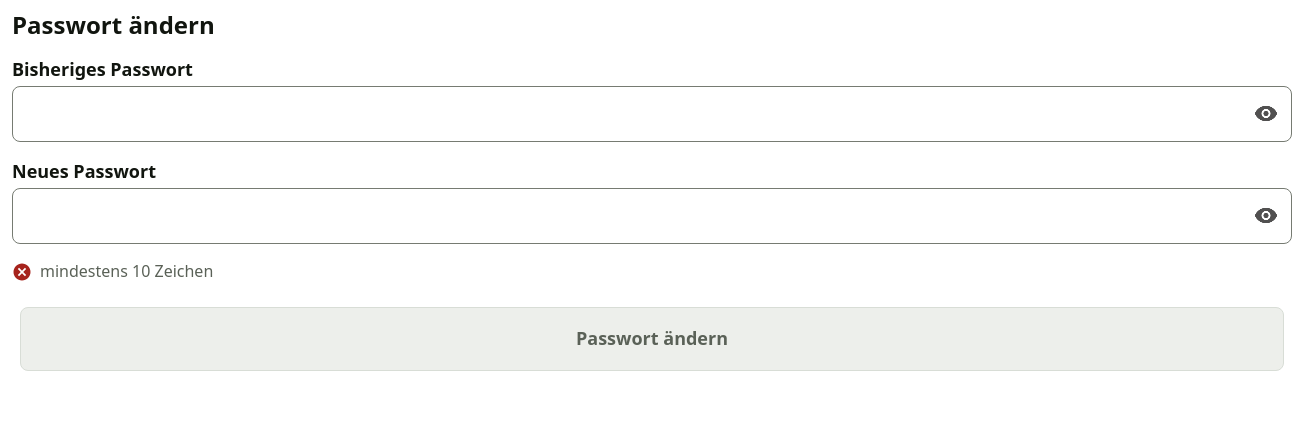
Test: PasswortAendern › Fehler › 429 PIN_GESPERRT: Text des Servers, Schaltfläche bleibt gesperrt
This screenshot has width=1304, height=446.
Step 1. Type "beispiel-passwort-01" into the password field with test id "passwort-aendern-alt" → (652, 114), box [12,86,1292,142]
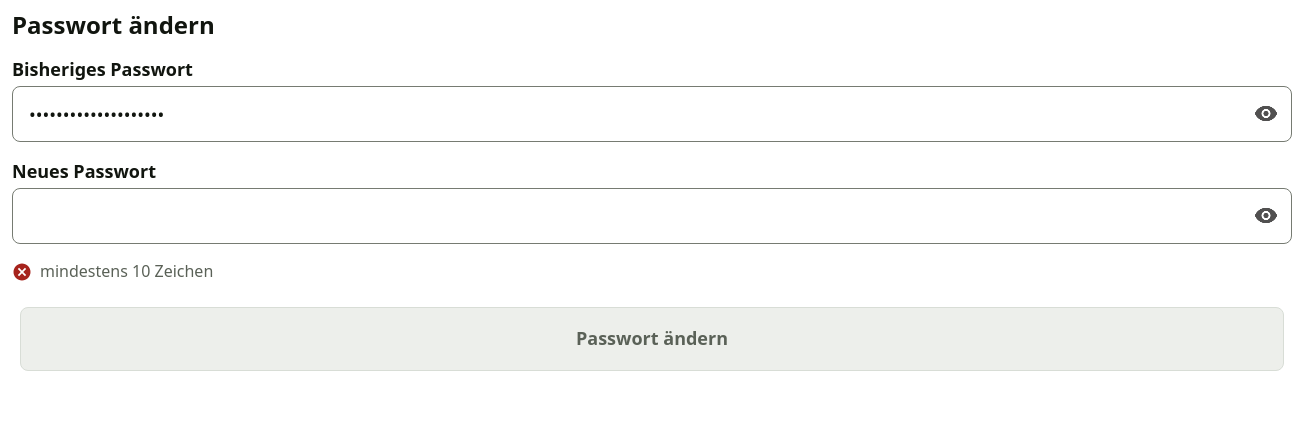
Step 2. Type "beispiel-passwort-02" into the password field with test id "passwort-aendern-neu" → (652, 216), box [12,188,1292,244]
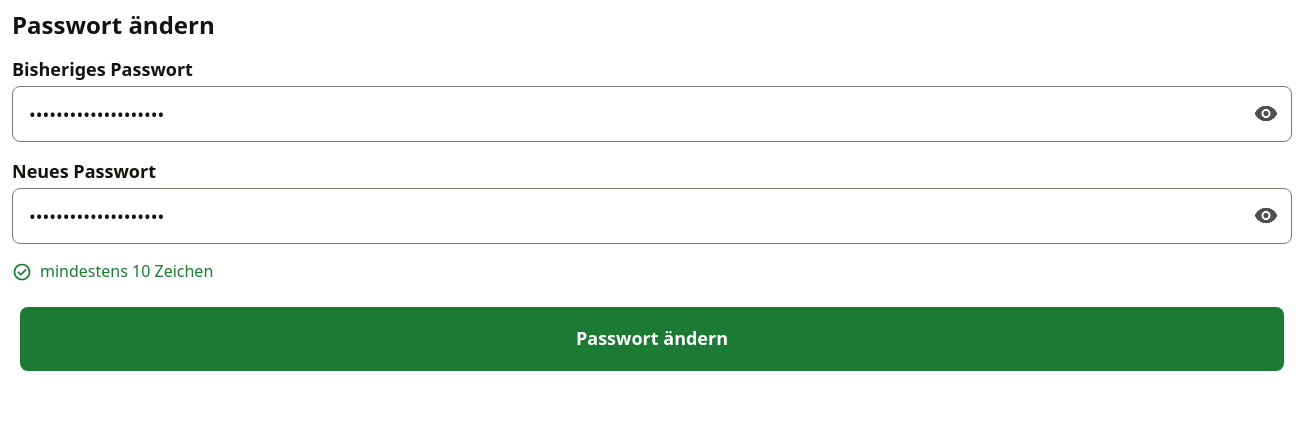
Step 3. Click the button with test id "passwort-aendern-absenden" → (652, 339), box [20,307,1284,371]
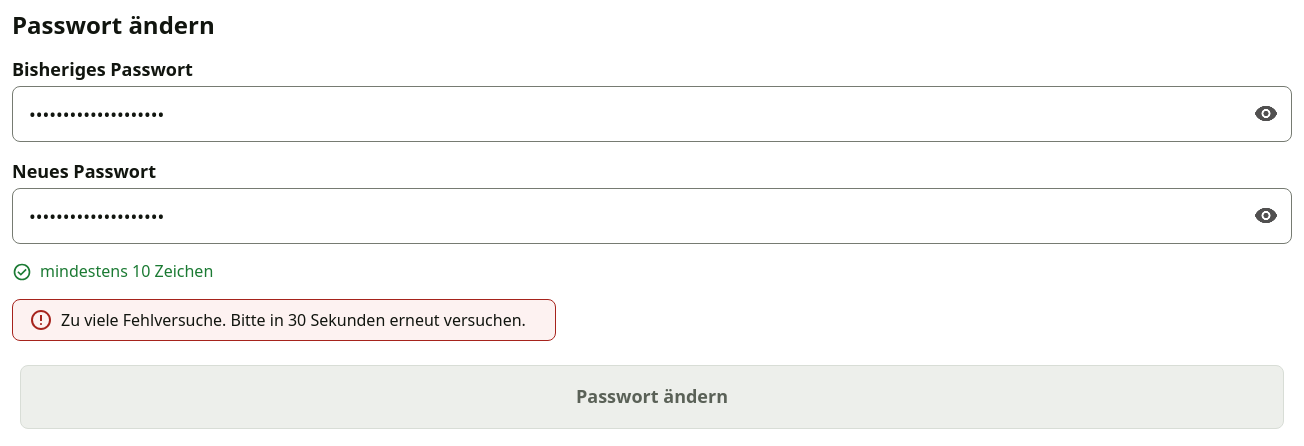
Now the message with test id "passwort-aendern-fehler" reads "Zu viele Fehlversuche. Bitte in 30 Sekunden erneut versuchen.", box [61,309,526,331]
Now the button with test id "passwort-aendern-absenden" is disabled, box [20,365,1284,429]
